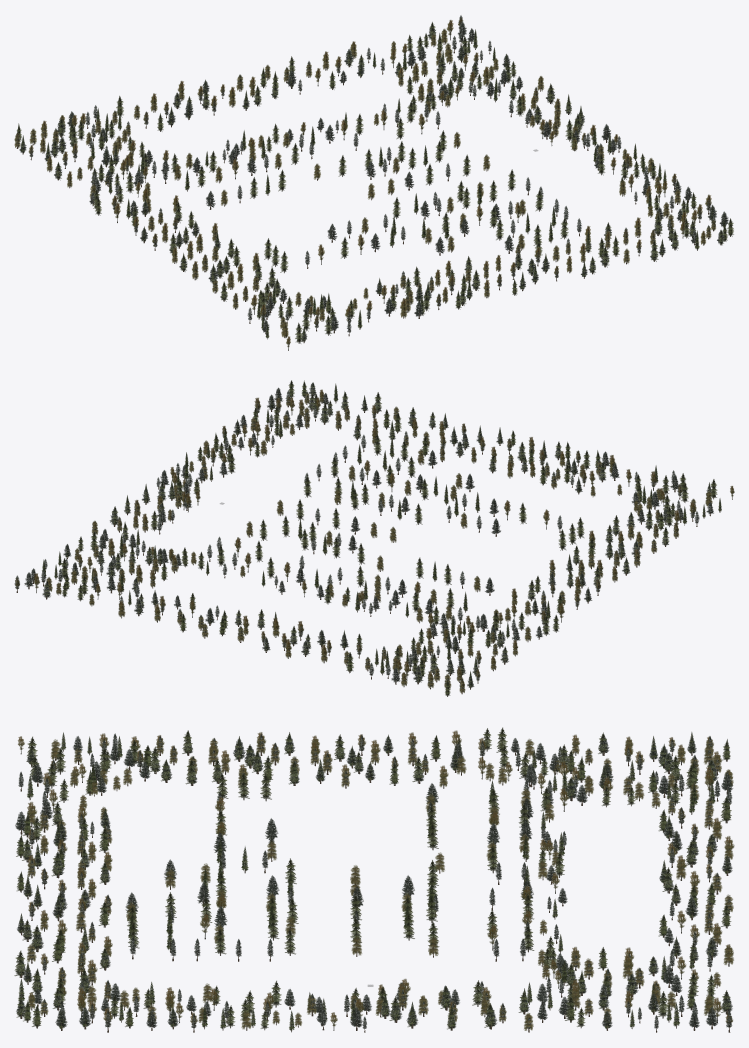
The model's file is Daraxtlar.glb.
The picture shows the model from 3 angles, top to bottom: view 1: azimuth 30°, elevation 25°; view 2: azimuth 150°, elevation 25°; view 3: azimuth 270°, elevation 25°; orthographic projection. The views are drawn at different scales.
Size of the model in its own units: 679 by 31.49 by 725.
Materials: 4 (4 with a texture image).
